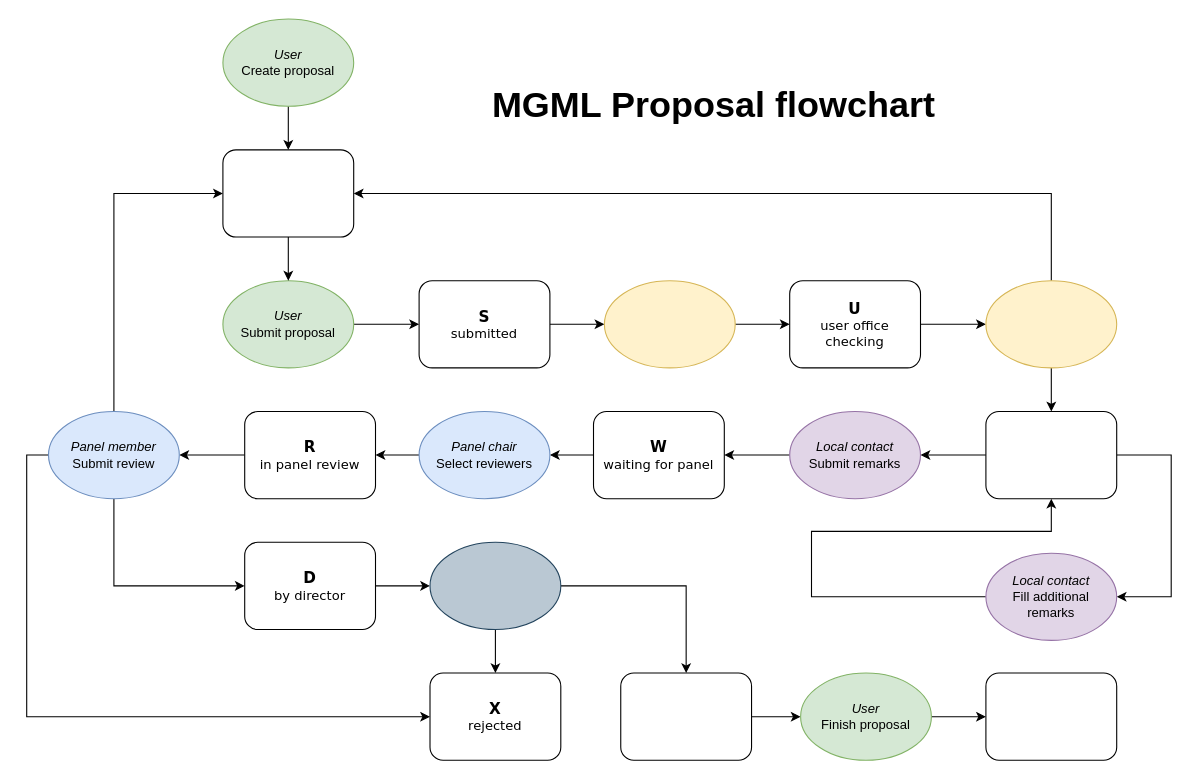
Some shapes in this 1199 by 779 pixel diagram are drawn without their labels. The centre of each missing label's shape, as x and y in pixels:
"A accepted" goes at point (686, 716).
"Director Director decision" goes at point (495, 585).
"F finished" goes at point (1051, 716).
"P in preparation" goes at point (288, 193).
"T in technical review" goes at point (1051, 454).
"User office Request technical review" goes at point (1051, 324).
"User office Takeover proposal" goes at point (669, 324).
